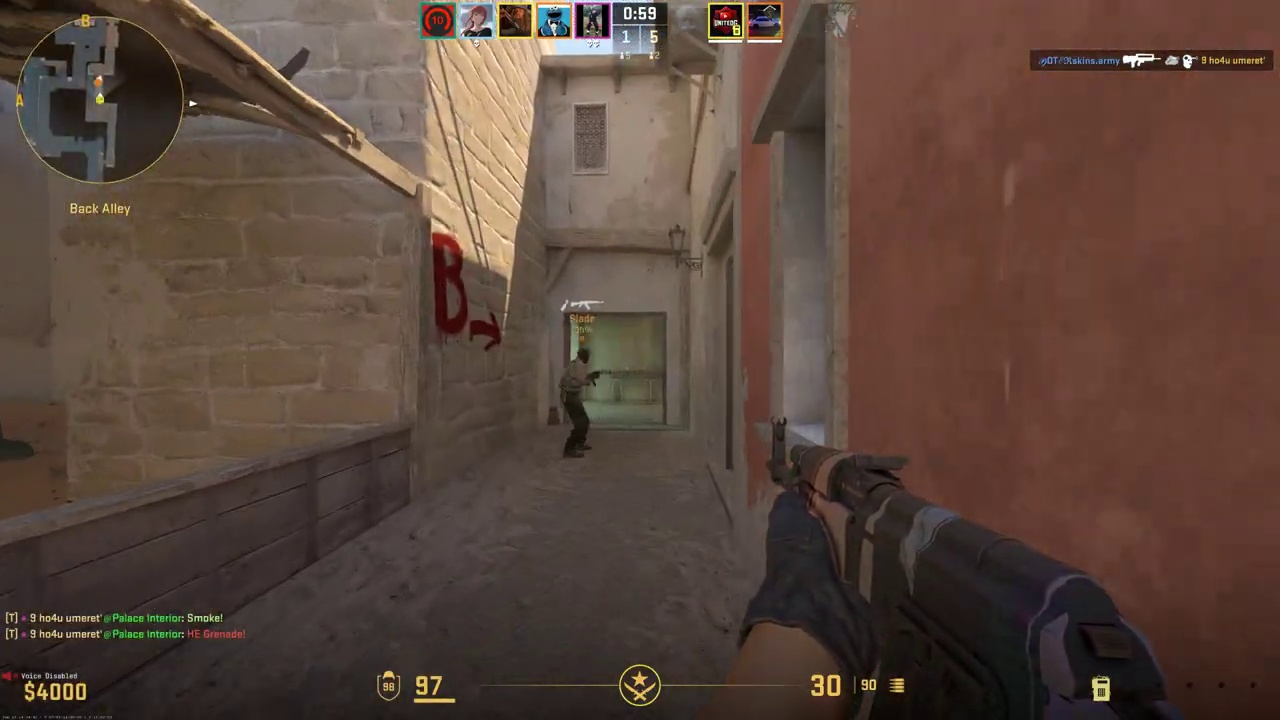Terrorist: (559, 348, 594, 457)
